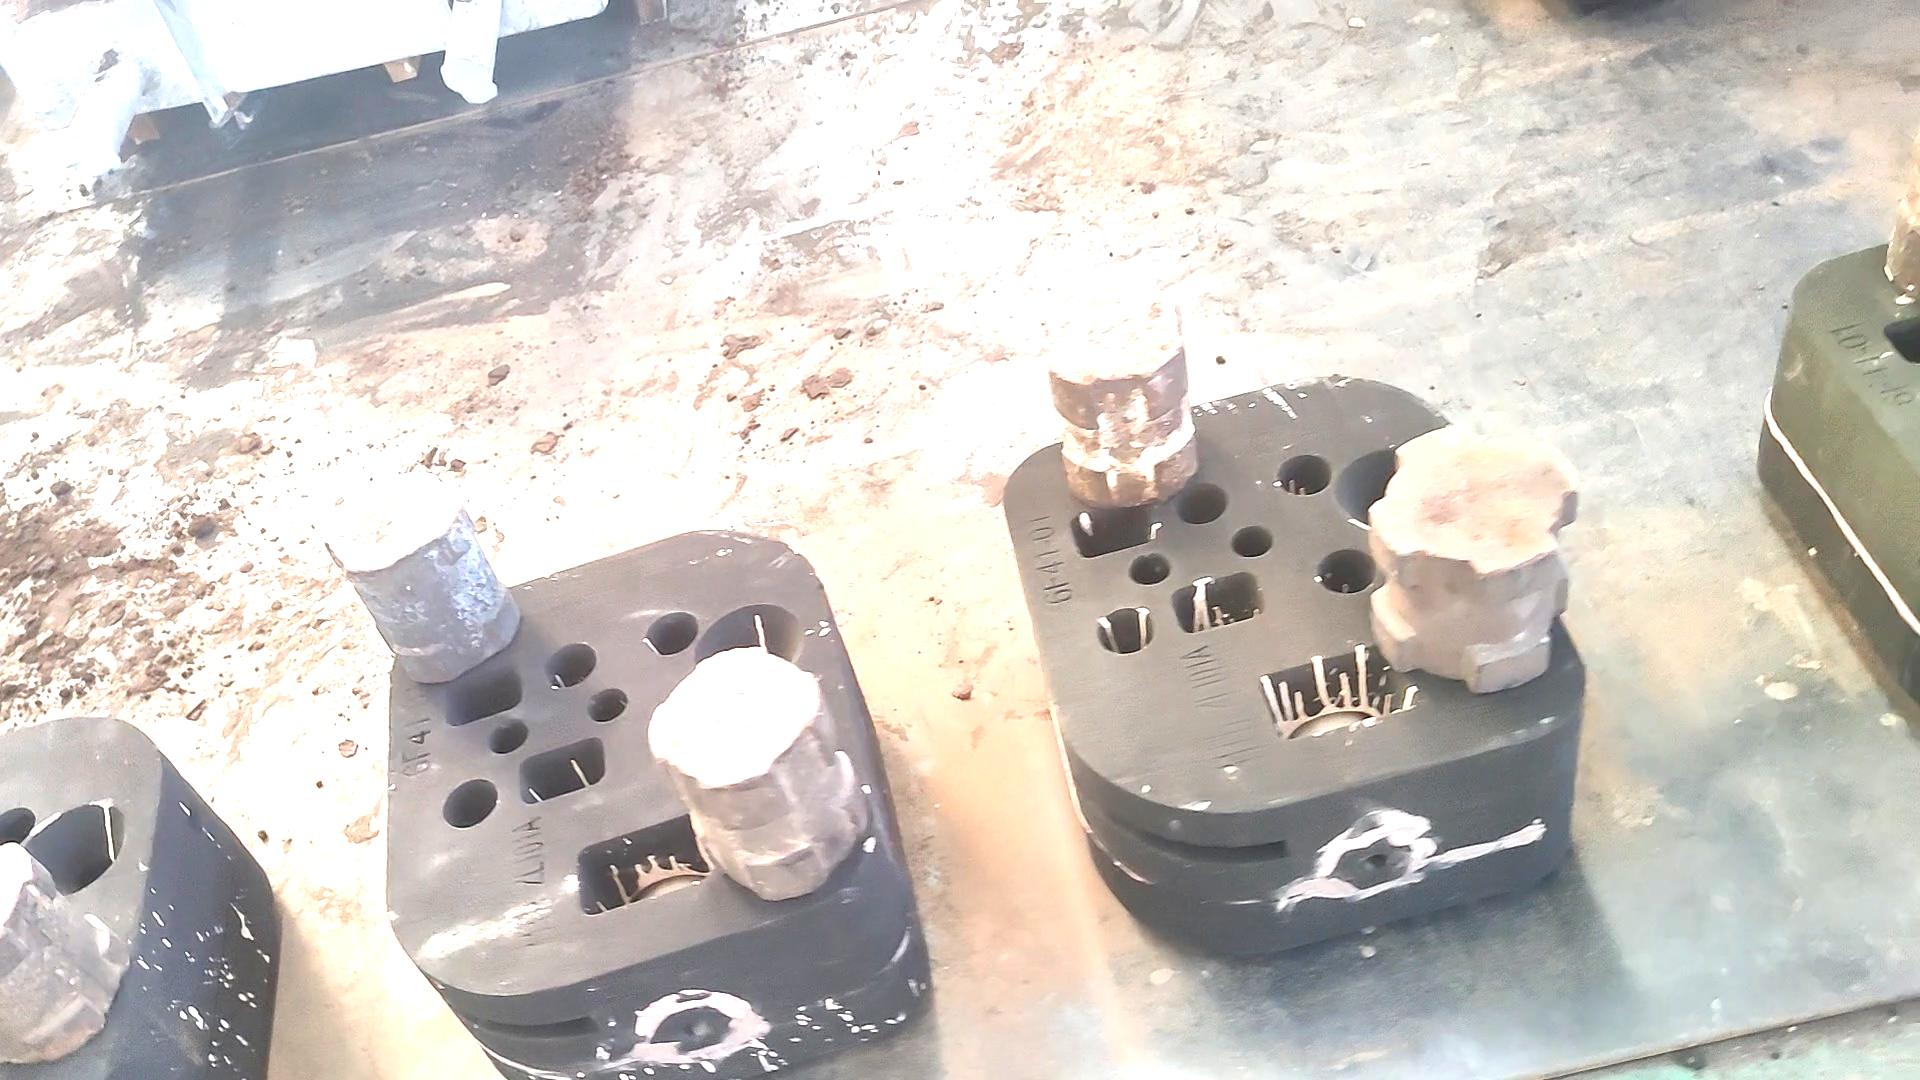pouring hole: (1335, 439, 1457, 530), (21, 802, 127, 891), (694, 603, 804, 680)
